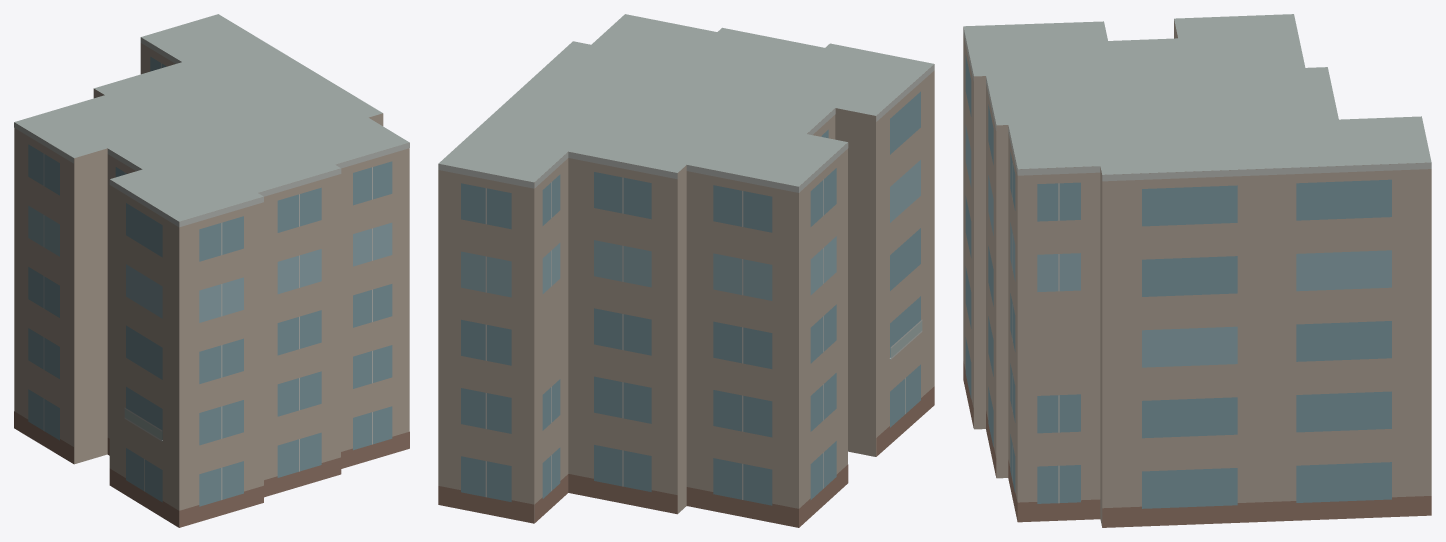
File: survey-upis-32877027.glb
3 renders of one model, left to right at view 1: azimuth 30°, elevation 25°; view 2: azimuth 150°, elevation 25°; view 3: azimuth 270°, elevation 25°, orthographic. The views are drawn at different scales.
Visible parts, largest first — view 1: survey-upis-32877027.tmp; view 2: survey-upis-32877027.tmp; view 3: survey-upis-32877027.tmp.
Part boxes in pixels (x1=…): survey-upis-32877027.tmp: x1=14, y1=14, x2=409, y2=527; survey-upis-32877027.tmp: x1=438, y1=14, x2=934, y2=527; survey-upis-32877027.tmp: x1=963, y1=14, x2=1431, y2=527.
Size of the model in its own units: 12.96 by 13.25 by 15.94.
